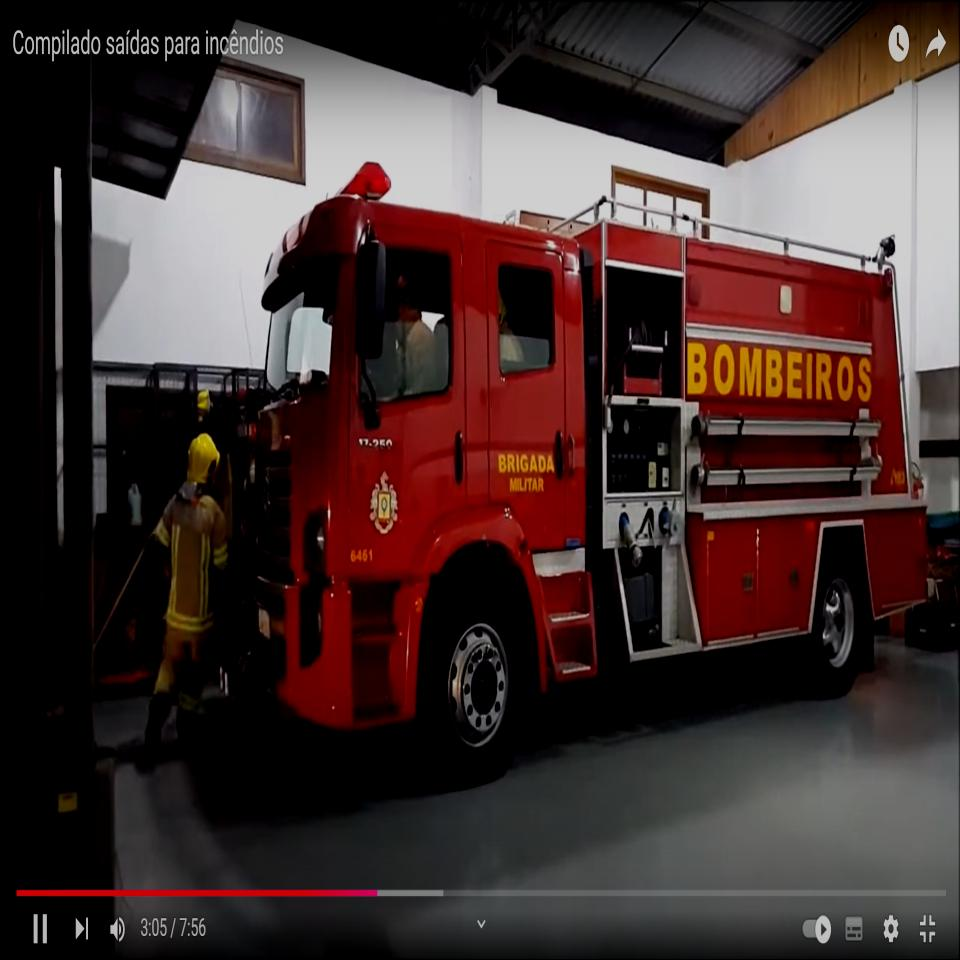bombeiro: (245, 153, 935, 790)
